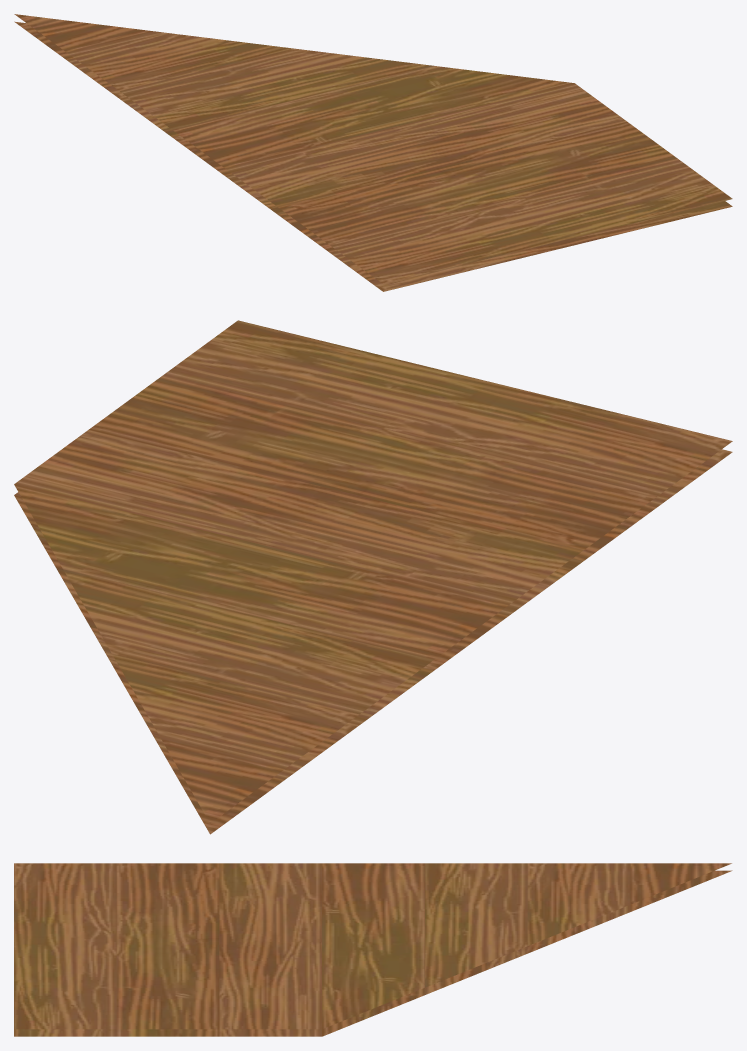
Rendered from floor_woodlight_overhangcorner2.glb.
3 views of the same model, one above another, from view 1: azimuth 30°, elevation 25°; view 2: azimuth 150°, elevation 25°; view 3: azimuth 270°, elevation 25° (orthographic). The views are drawn at different scales.
Size of the model in its own units: 0.9567 by 0.02 by 1.75.
Materials: 1 (1 with a texture image).
